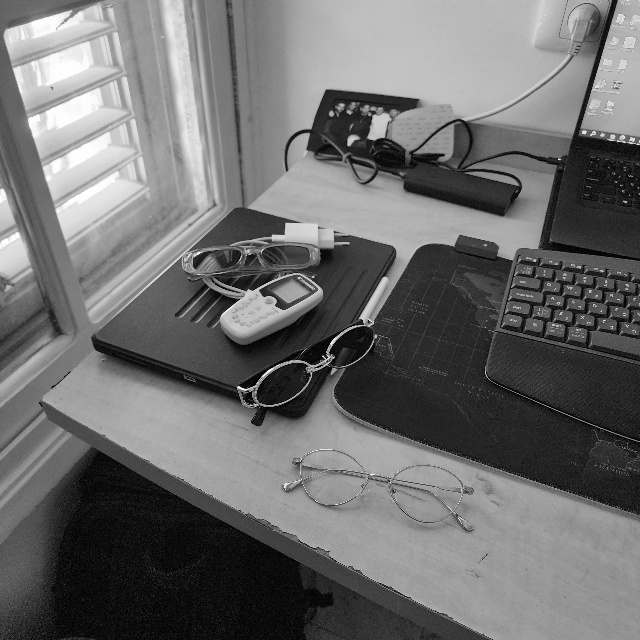glasses: (281, 443, 483, 538), (236, 317, 381, 426), (177, 238, 326, 283)
